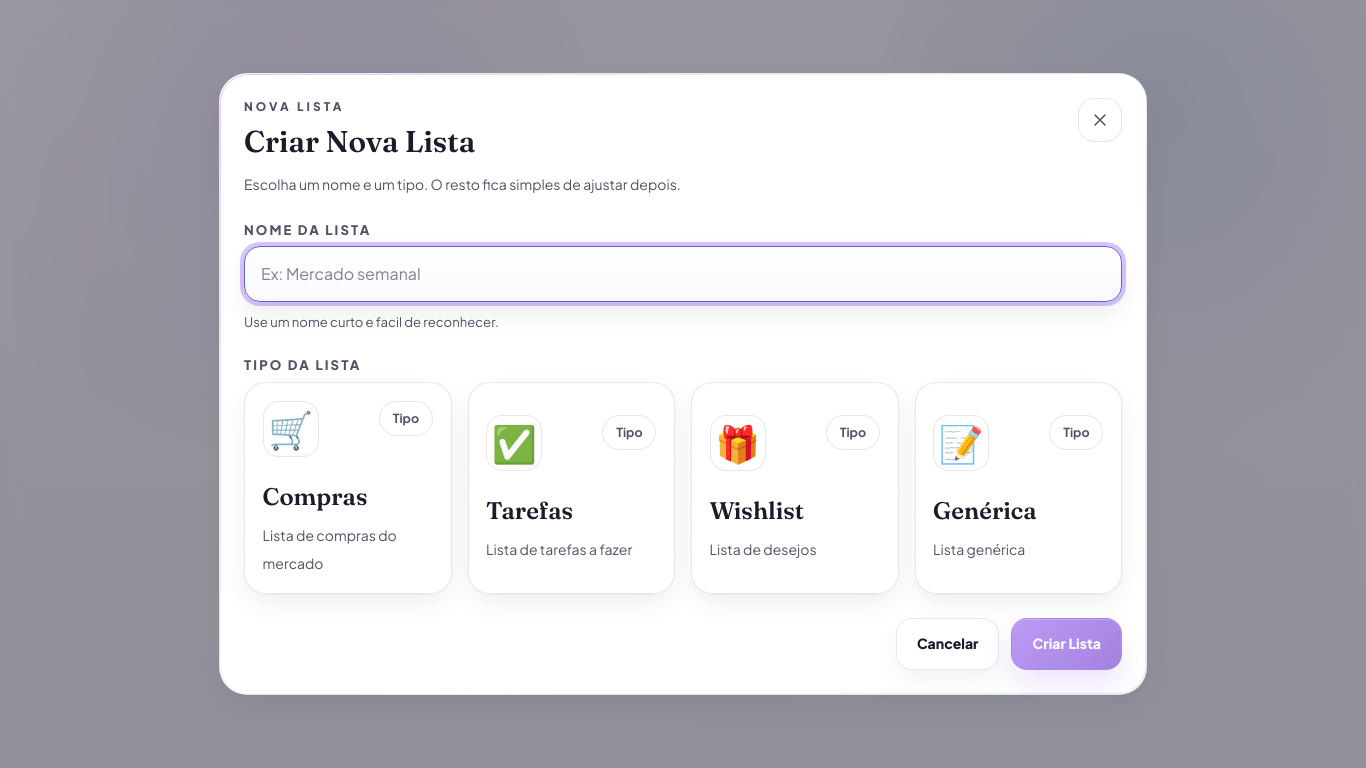
Test case: CreateListModal › deve habilitar botão quando nome e tipo válidos
The image size is (1366, 768).
Step 1. Type "Minha Lista" into the field labelled "Nome da lista" → (683, 274), box [244,246,1122,302]
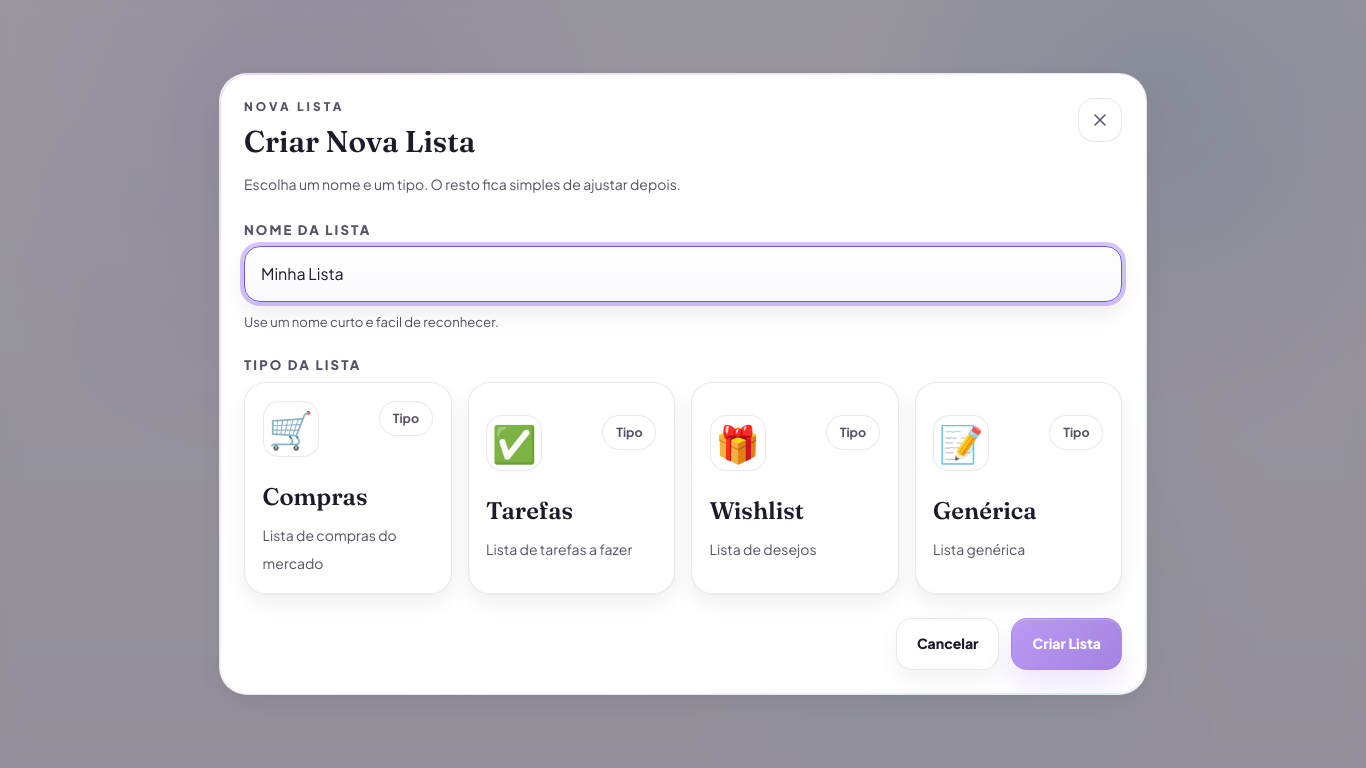
// Selecionar primeiro tipo
Step 2. Click the button "🛒 Tipo Compras Lista de compras do mercado" → (348, 488), box [244,382,452,594]
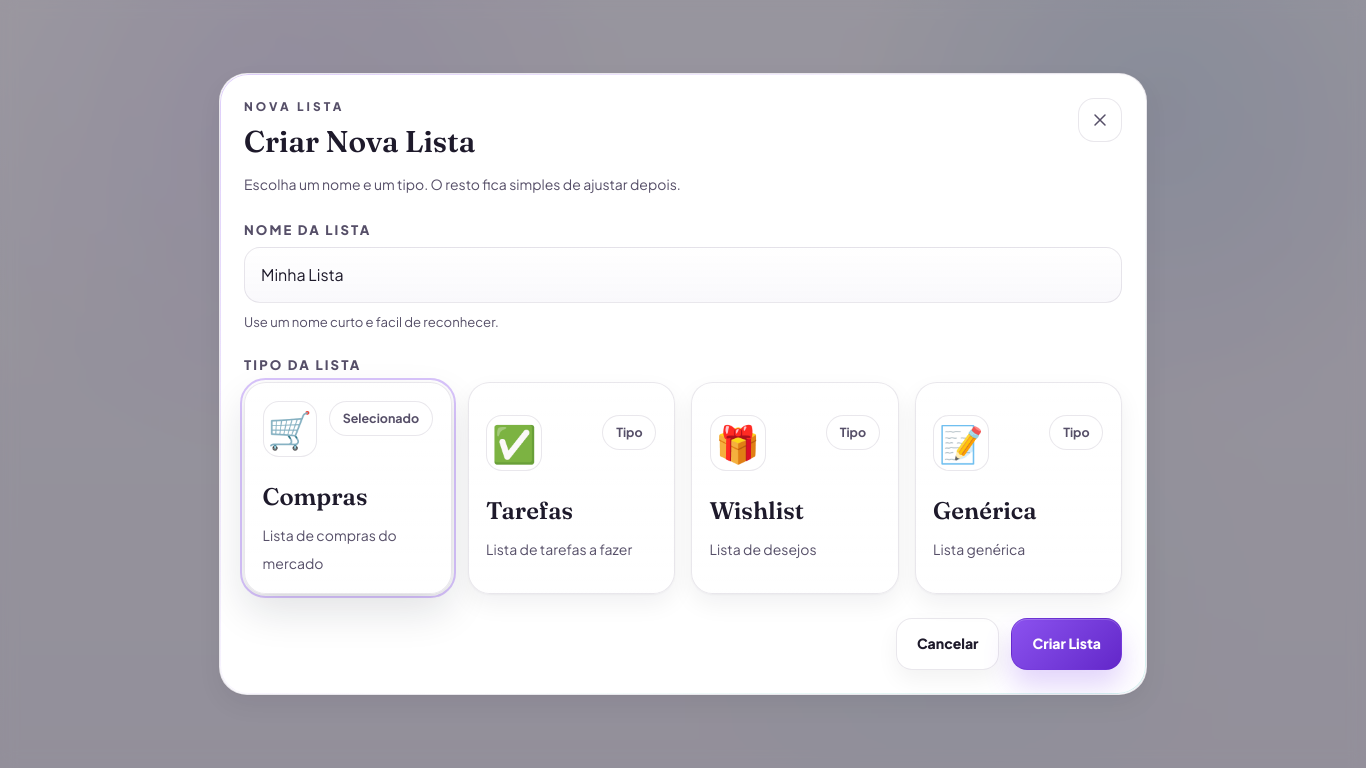
Result: the button "Criar Lista" is enabled at [1012,618,1122,670]
